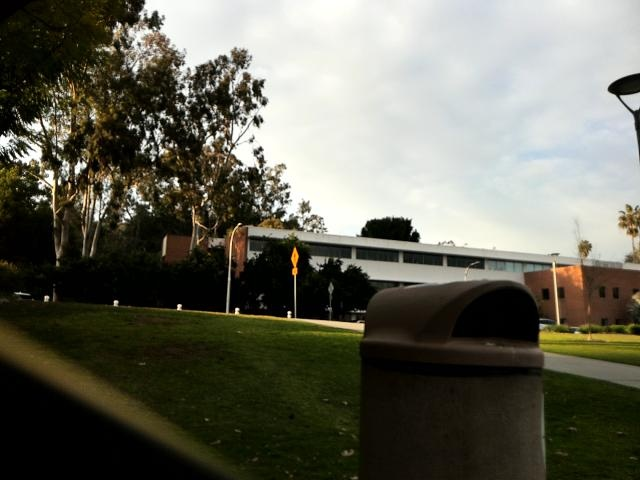trashcan: (351, 280, 560, 480)
